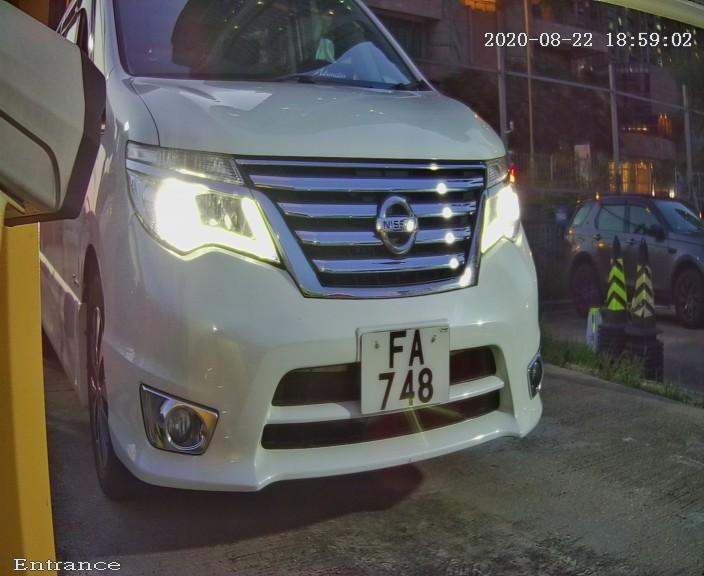Car: (32, 1, 595, 535)
License Plate: (321, 295, 475, 434)
